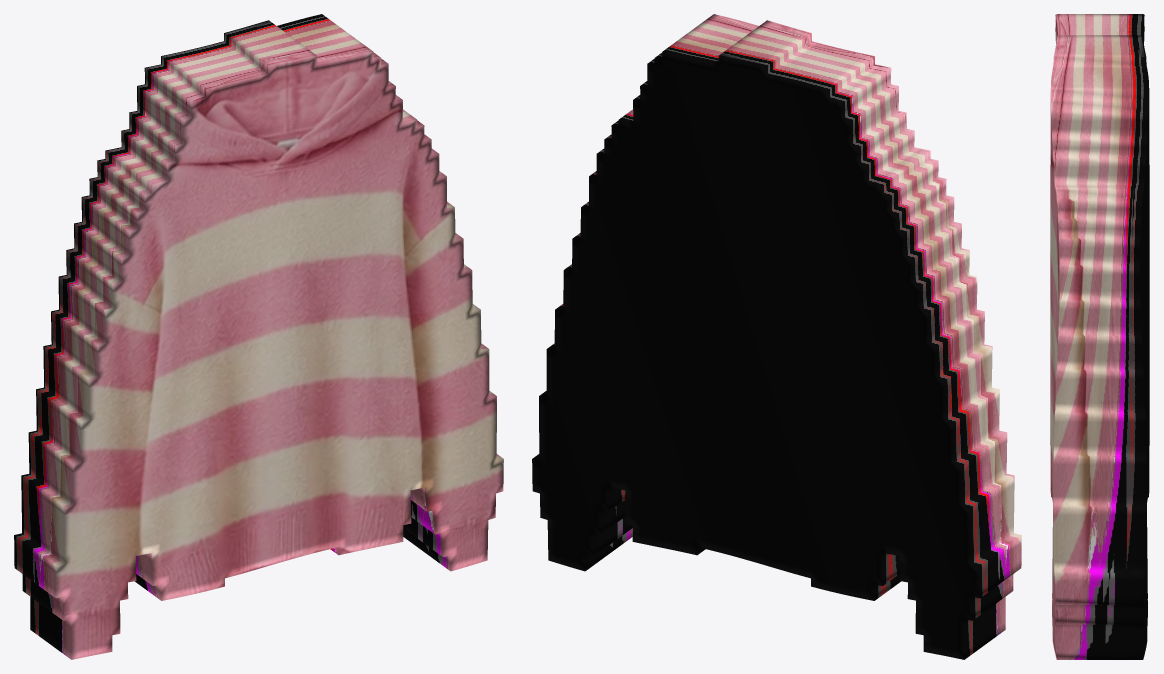
Rendered from rail-02-pink-stripe.glb.
3 views of the same model, side by side, from view 1: azimuth 30°, elevation 25°; view 2: azimuth 150°, elevation 25°; view 3: azimuth 270°, elevation 25° (orthographic). The views are drawn at different scales.
Parts seen in each view (by area): view 1: 02-pink-stripe-cutout; view 2: 02-pink-stripe-cutout; view 3: 02-pink-stripe-cutout.
Part boxes in pixels (left/top/right/bottom): 02-pink-stripe-cutout: left=14, top=14, right=503, bottom=659; 02-pink-stripe-cutout: left=532, top=14, right=1021, bottom=659; 02-pink-stripe-cutout: left=1050, top=14, right=1149, bottom=659.
Bounding box in the file's own units: 0.513 × 0.603 × 0.104.
1 material, 1 textured.
